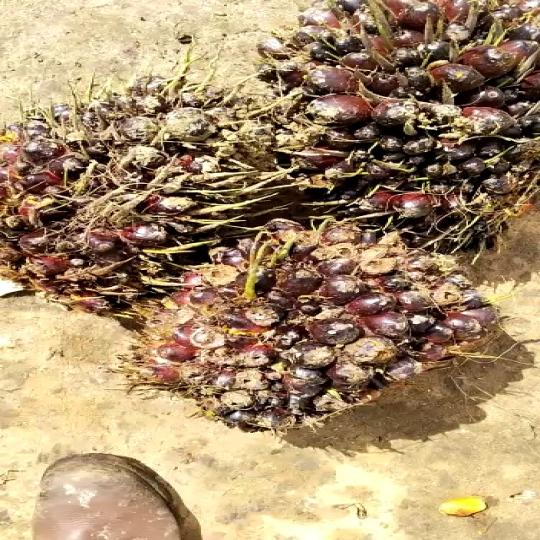kurang masak: (123, 220, 492, 432), (209, 0, 540, 224), (0, 84, 303, 298)
